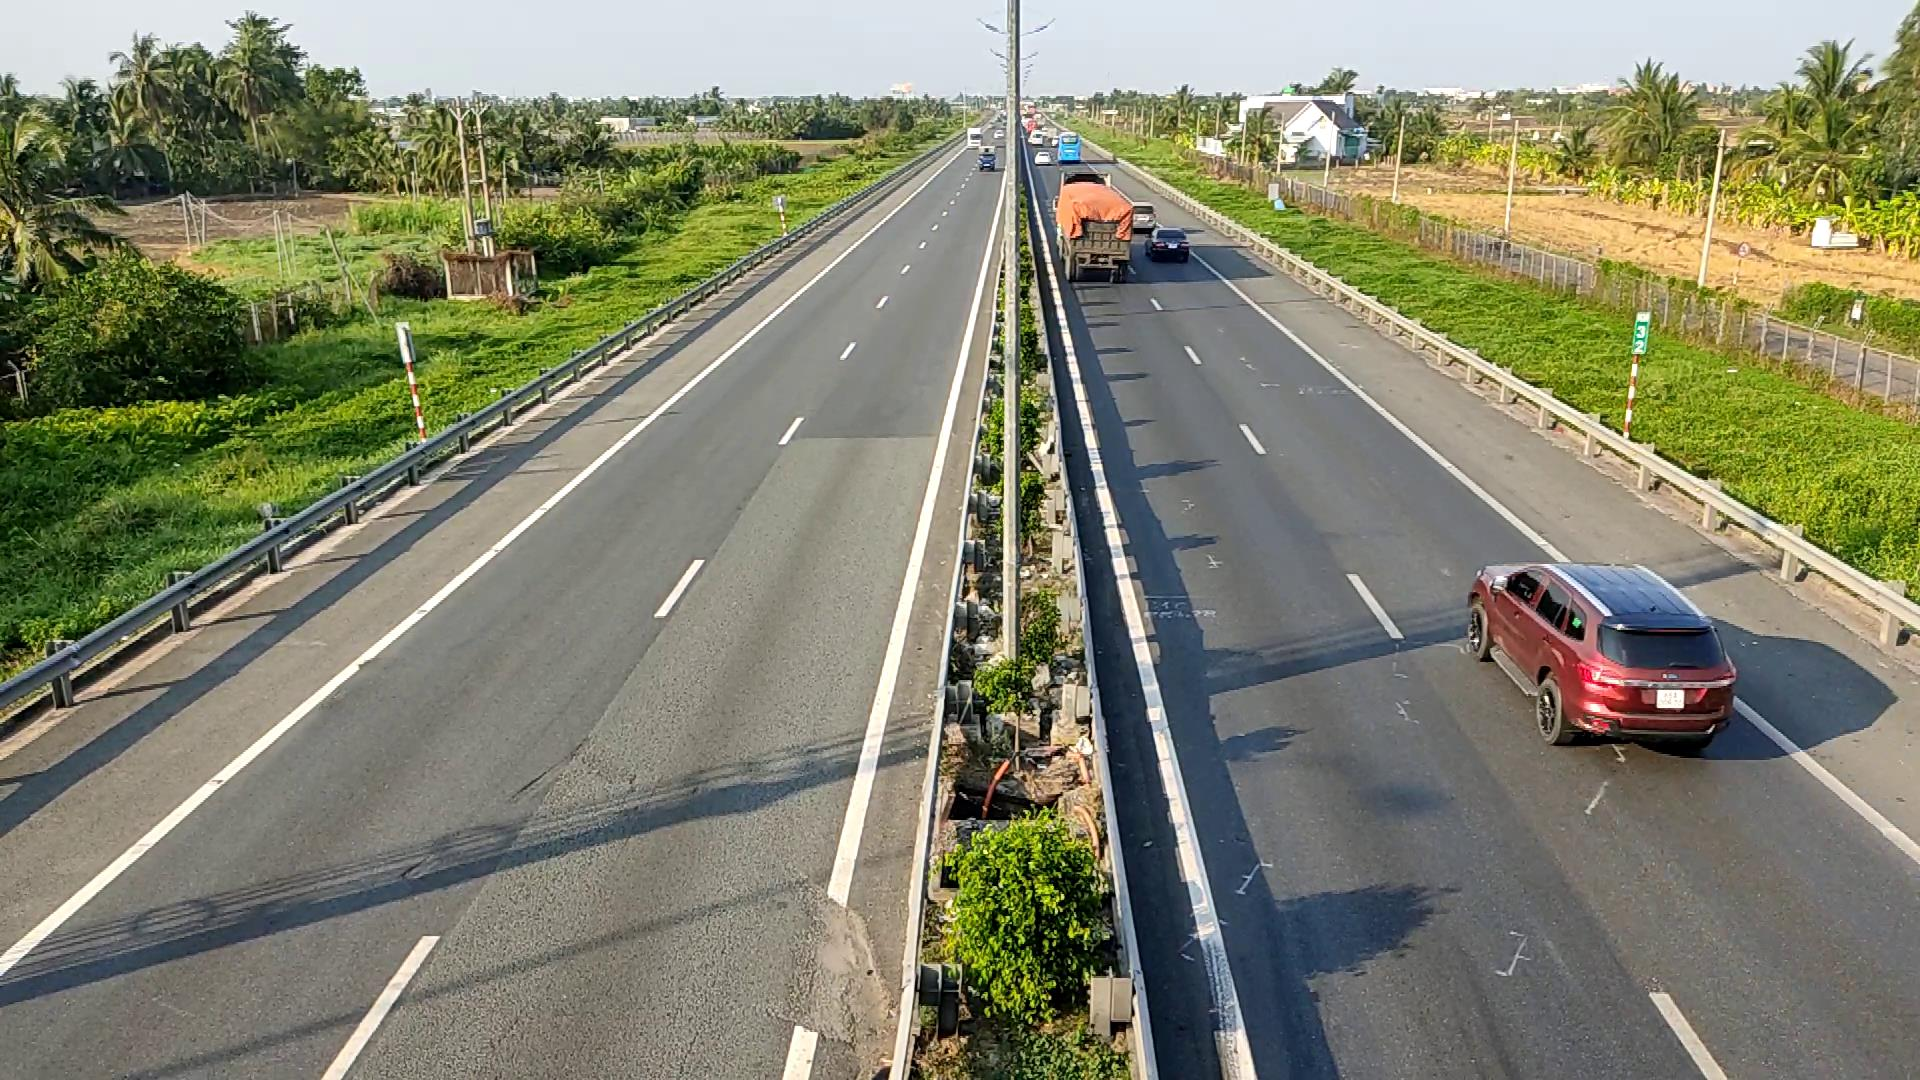car: (1462, 558, 1738, 754), (1146, 225, 1187, 262)
truck: (1055, 175, 1135, 284)
